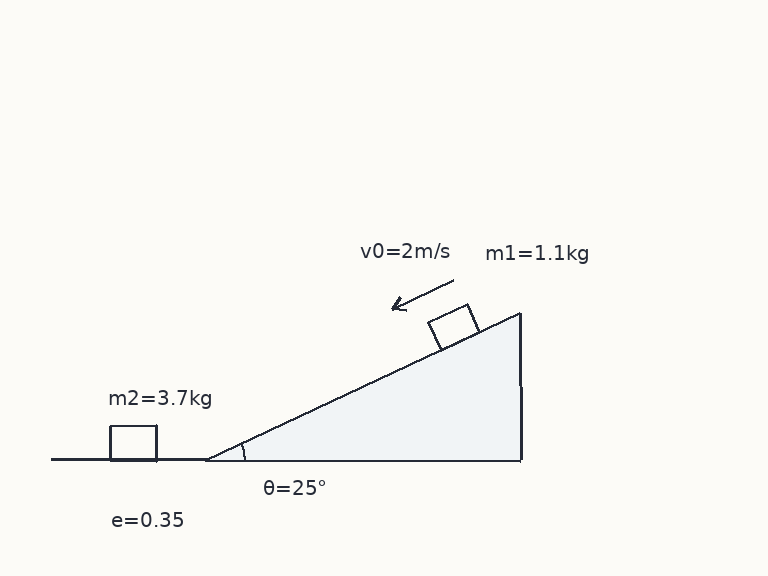block: (426, 302, 481, 352), (108, 424, 158, 462)
ramp: (203, 311, 522, 462)
